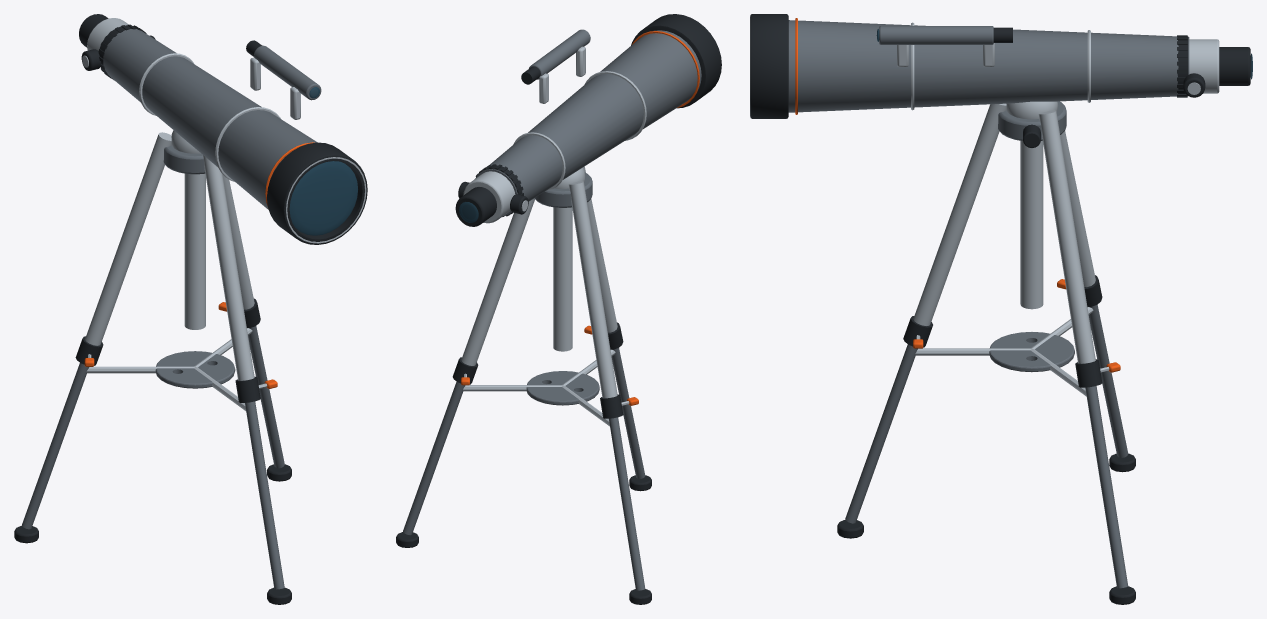
Rendered from telescope.glb.
3 renders of one model, left to right at view 1: azimuth 30°, elevation 25°; view 2: azimuth 150°, elevation 25°; view 3: azimuth 270°, elevation 25°, orthographic. The views are drawn at different scales.
Visible parts, largest first — view 1: TelescopeOptics, TelescopeStand; view 2: TelescopeOptics, TelescopeStand; view 3: TelescopeOptics, TelescopeStand.
Boxes of the visible parts, x1,y1,x2,y2 form: TelescopeOptics: (79,14,367,244); TelescopeStand: (14,130,291,604); TelescopeOptics: (455,14,721,226); TelescopeStand: (396,166,651,604); TelescopeOptics: (750,14,1252,118); TelescopeStand: (837,101,1135,604).
Bounding box in the file's own units: 0.7142 × 1.23 × 1.05.
